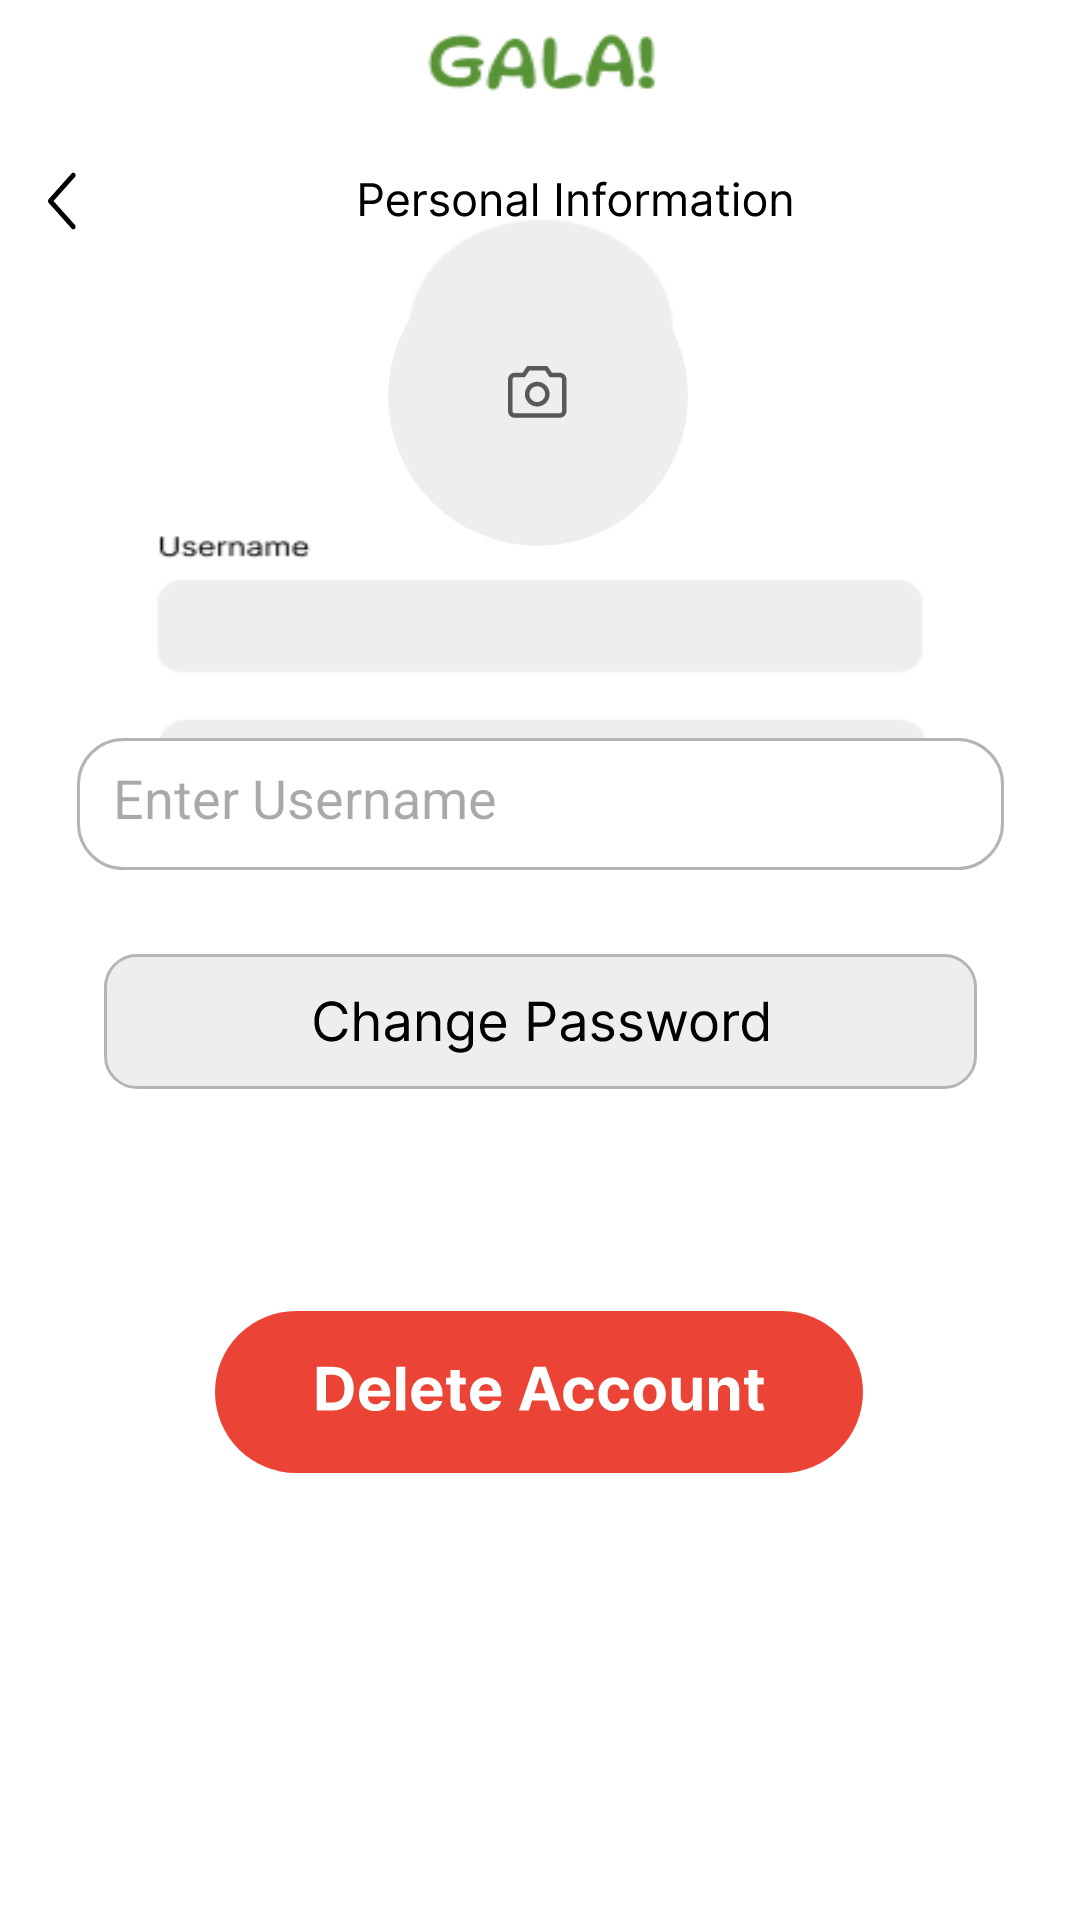

Icon click points for this 1080px x 1920px phone screenshot, format (x=x, y=y):
Add Photo: (x=538, y=396)
